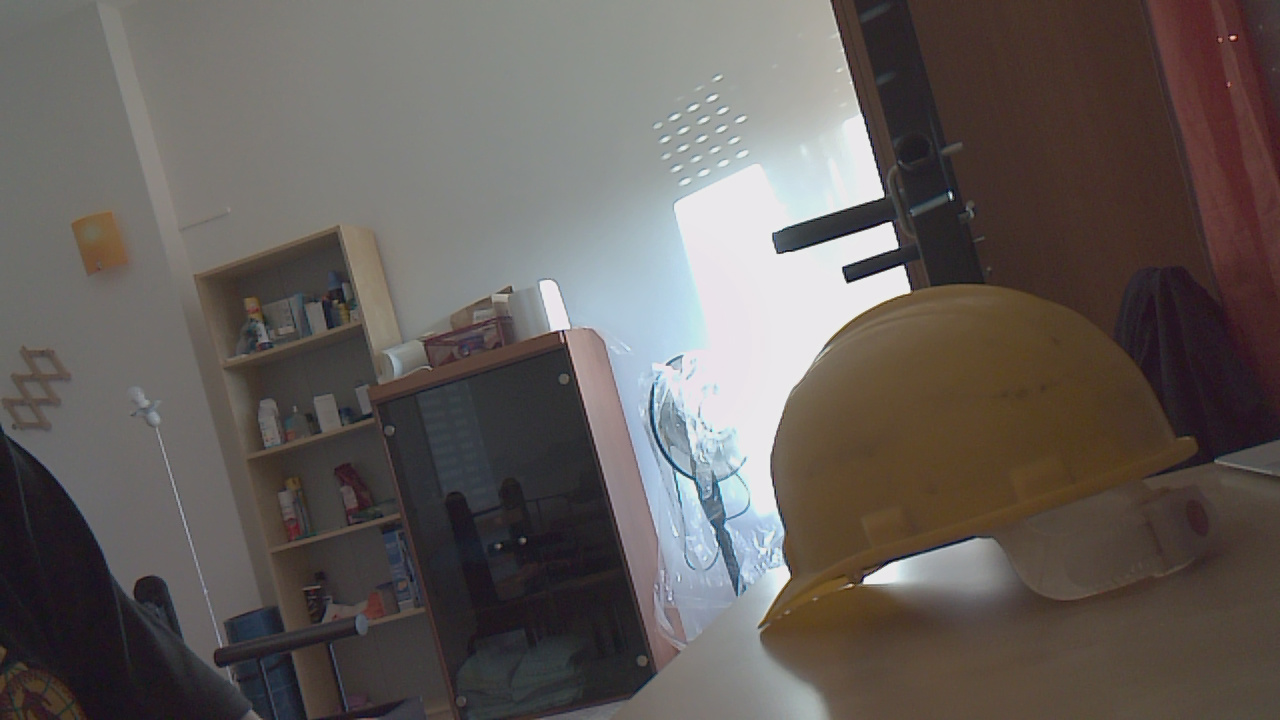Helmet: (755, 288, 1238, 651)
